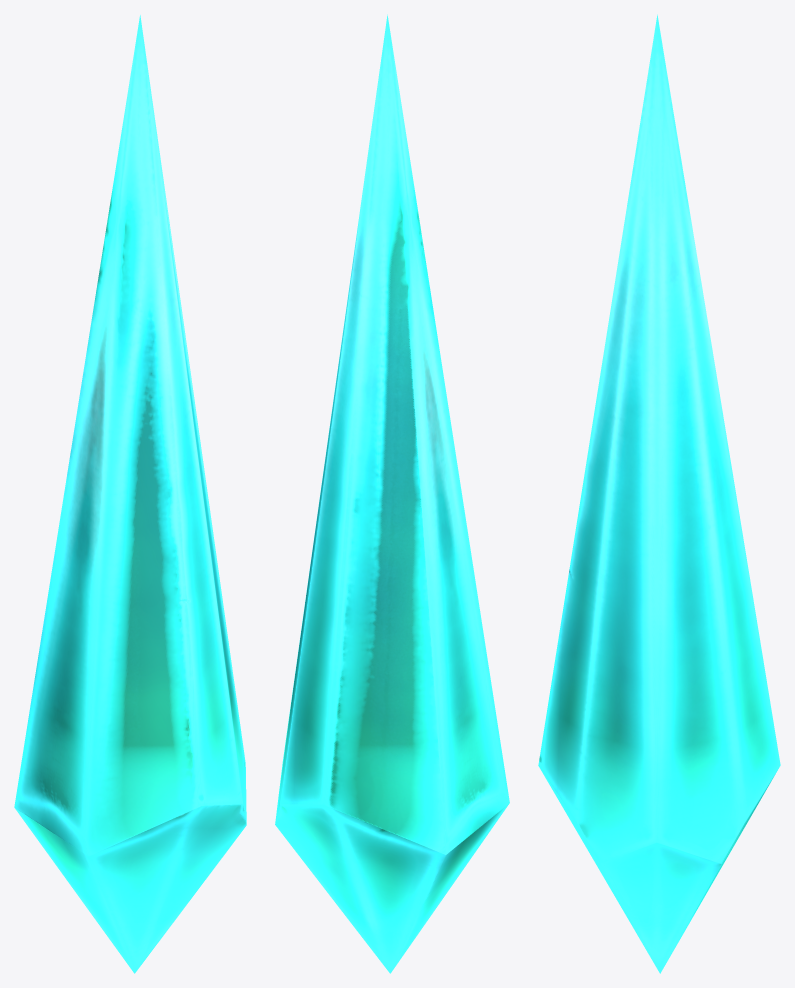
The model's file is crystal_sharp_single_blue.fbx.
3 views of the same model, side by side, from view 1: azimuth 30°, elevation 25°; view 2: azimuth 150°, elevation 25°; view 3: azimuth 270°, elevation 25° (orthographic).
Visible parts, largest first — view 1: crystal_sharp_single_blue; view 2: crystal_sharp_single_blue; view 3: crystal_sharp_single_blue.
Boxes of the visible parts, box(x1,y1,x2,y2) form: crystal_sharp_single_blue: box(14, 15, 246, 973); crystal_sharp_single_blue: box(275, 14, 509, 973); crystal_sharp_single_blue: box(538, 14, 780, 973).
Bounding box in the file's own units: 0.3176 × 1.48 × 0.3367.
